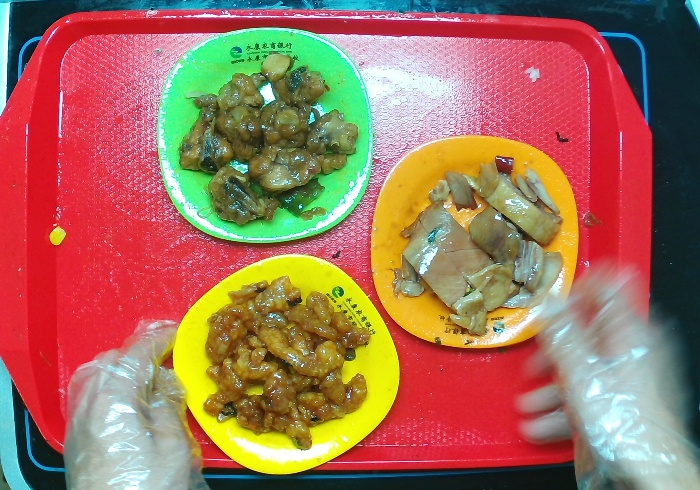YKMZ-Huang_Se_Fang_Die: (165, 247, 406, 479)
YKMZ-Ju_Se_Fang_Die: (362, 129, 588, 360)
YKMZ-Lv_Se_Fang_Die: (151, 21, 377, 252)
